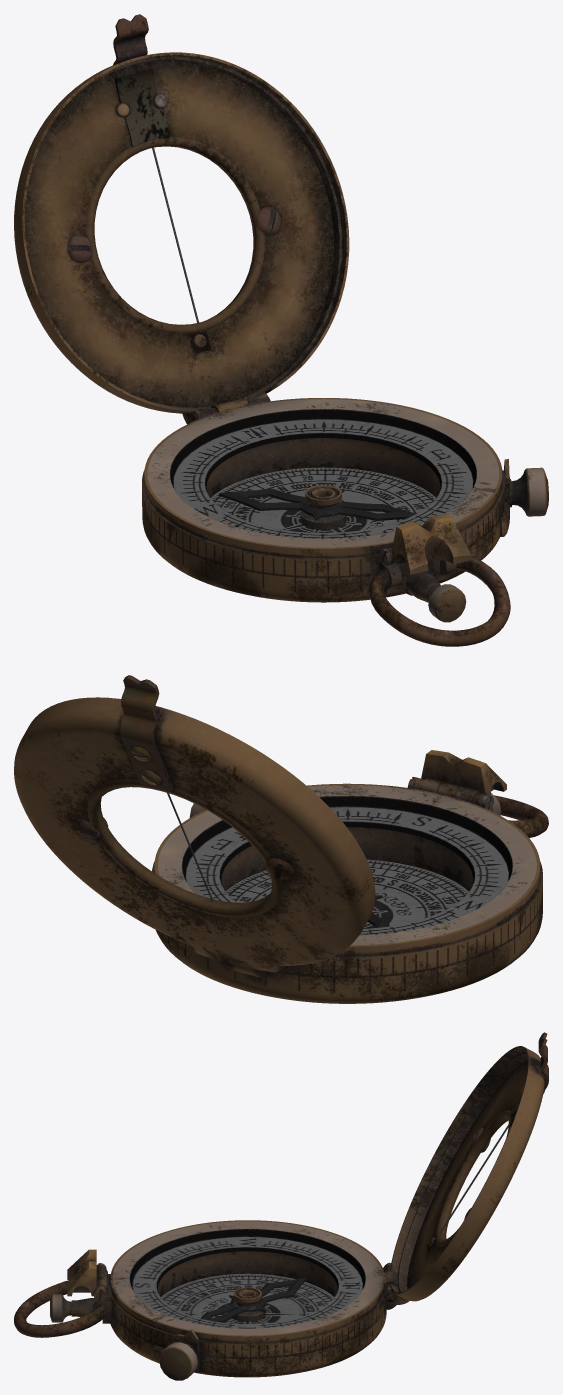
File: ph-compass.glb
3 renders of one model, top to bottom at view 1: azimuth 30°, elevation 25°; view 2: azimuth 150°, elevation 25°; view 3: azimuth 270°, elevation 25°, orthographic. The views are drawn at different scales.
Visible parts, largest first — view 1: seadogs_compass; view 2: seadogs_compass; view 3: seadogs_compass.
Part boxes in pixels (x1,y1,x2,y2): seadogs_compass: [14, 14, 548, 646]; seadogs_compass: [14, 675, 548, 1003]; seadogs_compass: [14, 1032, 548, 1380].
Bounding box in the file's own units: 0.0813 × 0.0866 × 0.1441.
Materials: 1 (1 with a texture image).
